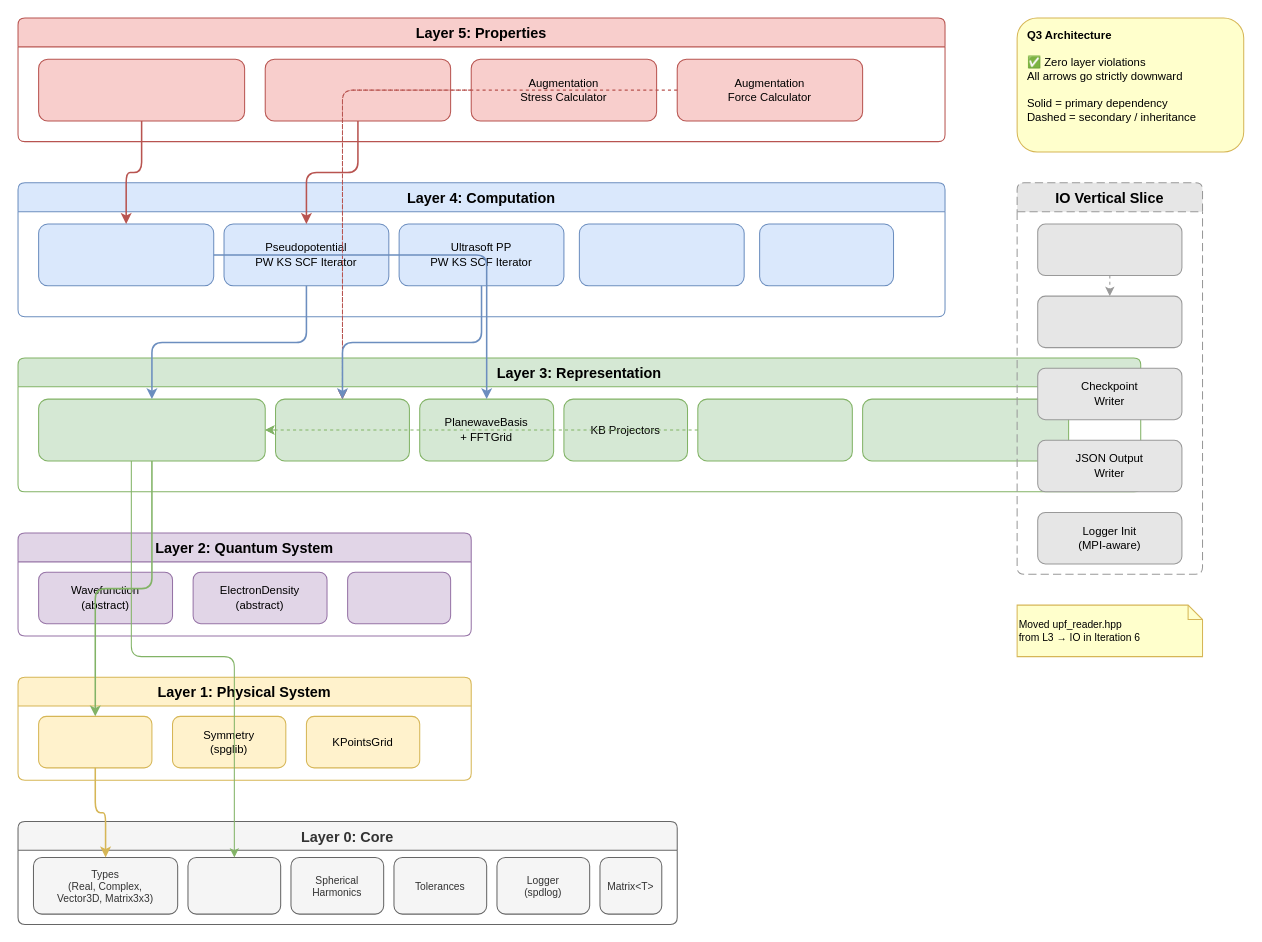
The diagram is 1262 pixels wide and 942 high, and some of its shapes have lost their labels. Each missing label, with the centre of its shape:
AtomicWavefunction Initializer: pixel 774 429
Crystal: pixel 95 741
Diagonalizer (Davidson / Direct): pixel 661 254
Forces Calculator (forces.hpp): pixel 357 89
PlanewaveKohnSham SCFIterator: pixel 126 254
Potential (abstract): pixel 399 597
PseudopotentialQuantumSystem (quantum_system.hpp): pixel 151 429
PseudopotentialSet (homogeneous, as_ultrasoft): pixel 965 429
Radial Utilities: pixel 234 885
StressResult Calculator (stress_tensor.hpp): pixel 141 89
Ultrasoft QS Extension: pixel 341 429
UPF Reader (upf_reader.hpp): pixel 1109 321
XCFunctional (LibXC): pixel 826 254
YAML / JSON Input Parser: pixel 1109 249
